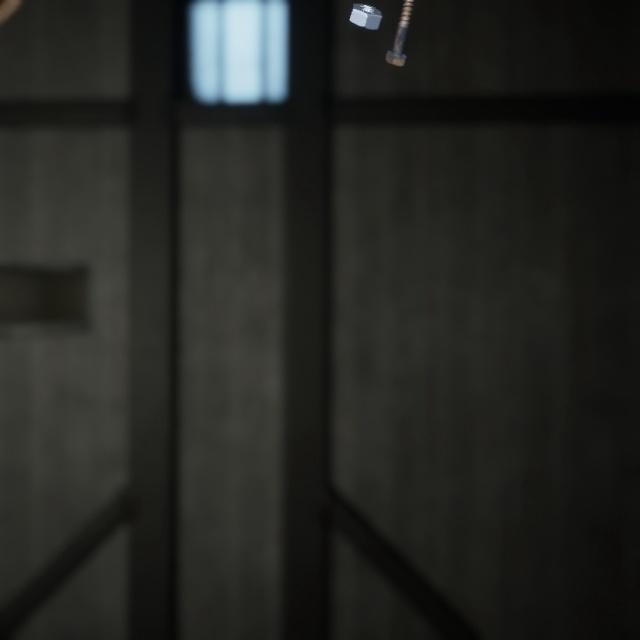bolt: (379, 0, 416, 63)
nut: (346, 0, 388, 27)
